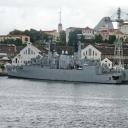Fragata: (7, 40, 125, 86)
